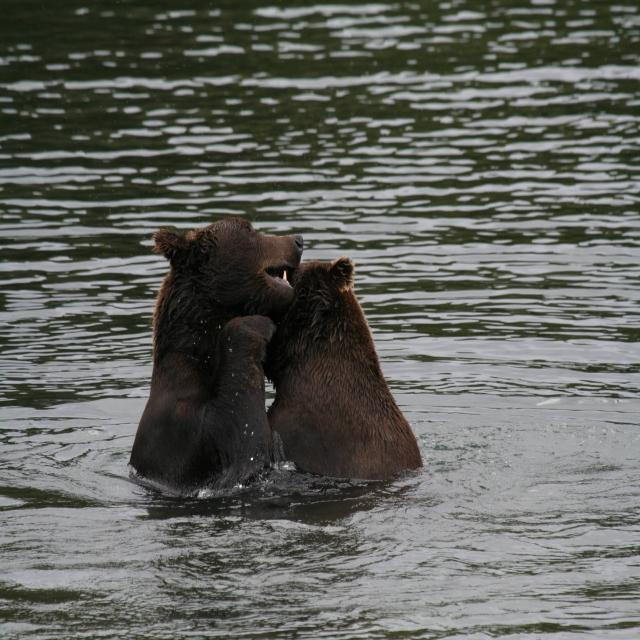bear face: (135, 215, 304, 480), (269, 255, 420, 469)
